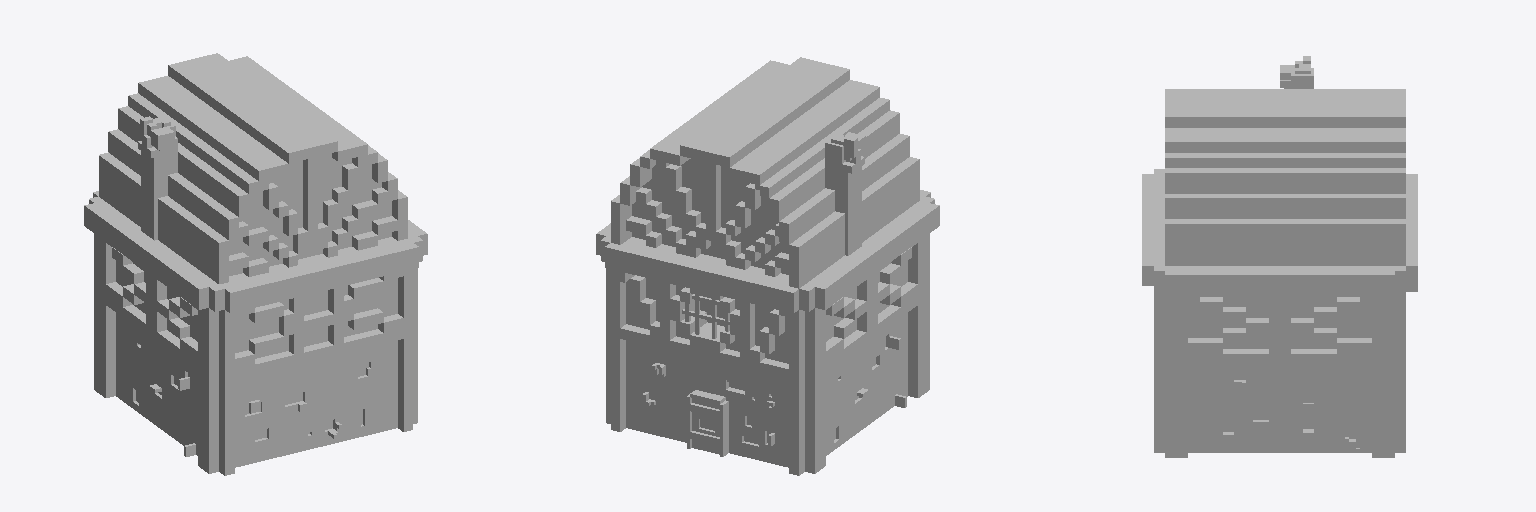
Rendered from UNITYFINALHOUSE1.obj.
3 renders of one model, left to right at view 1: azimuth 30°, elevation 25°; view 2: azimuth 150°, elevation 25°; view 3: azimuth 270°, elevation 25°, orthographic.
Parts seen in each view (by area): view 1: object 1; view 2: object 1; view 3: object 1.
Part boxes in pixels (bbox=[...]): object 1: bbox=[84, 53, 427, 475]; object 1: bbox=[596, 57, 939, 475]; object 1: bbox=[1142, 56, 1417, 457].
Bounding box in the file's own units: 6.9 × 8.7 × 7.2.